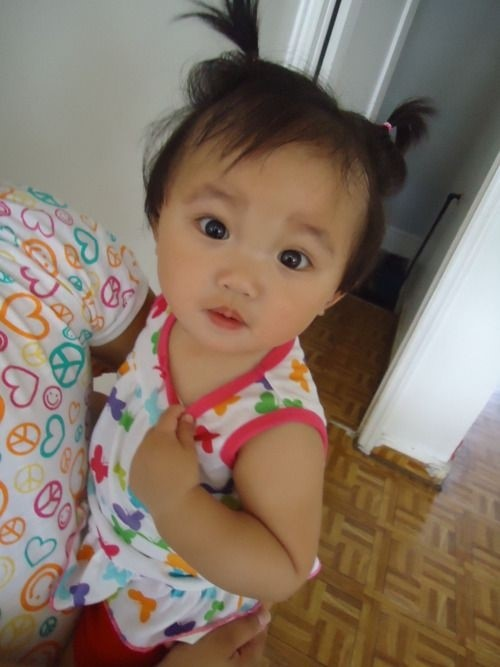face_no_mask: (142, 65, 384, 355)
